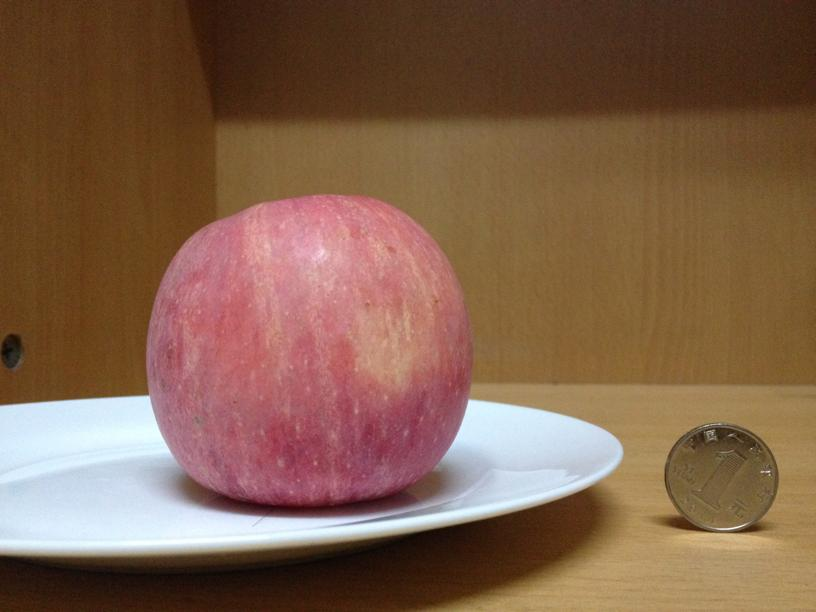apple: (142, 192, 474, 511)
coin: (663, 423, 780, 533)
